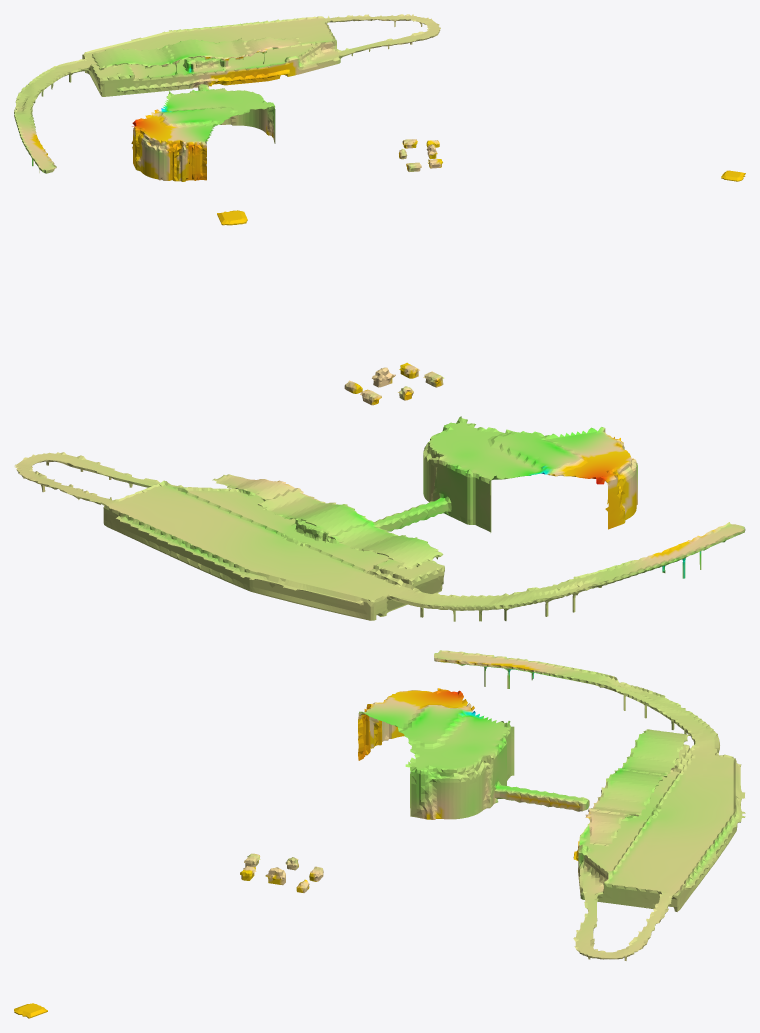
The model's file is windpressure_building_4.gltf.
The picture shows the model from 3 angles, top to bottom: view 1: azimuth 30°, elevation 25°; view 2: azimuth 150°, elevation 25°; view 3: azimuth 270°, elevation 25°; orthographic projection. The views are drawn at different scales.
Visible parts, largest first — view 1: 0; view 2: 0; view 3: 0.
Part boxes in pixels (x1=…): 0: x1=14, y1=14, x2=745, y2=181; 0: x1=14, y1=210, x2=745, y2=621; 0: x1=14, y1=650, x2=745, y2=1018.
Size of the model in its own units: 355 by 25.84 by 321.
1 material, 1 textured.
